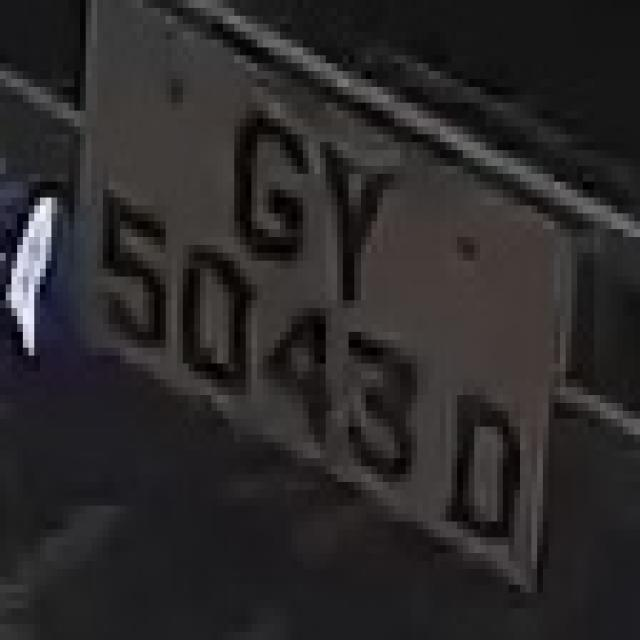0: (172, 205, 257, 403)
3: (348, 300, 428, 514)
4: (263, 245, 348, 474)
5: (86, 174, 160, 363)
D: (446, 371, 526, 561)
G: (223, 95, 314, 284)
Y: (314, 111, 394, 324)
